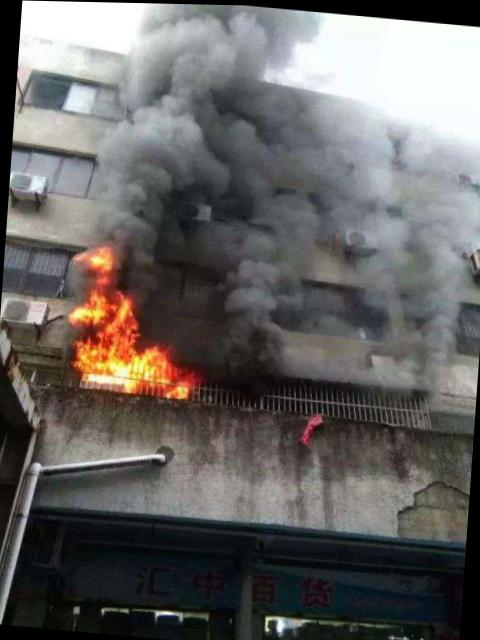fire: (73, 325, 132, 372), (128, 345, 174, 386), (68, 294, 111, 326), (78, 241, 114, 274), (112, 293, 137, 329), (158, 376, 193, 399), (88, 274, 108, 295)
